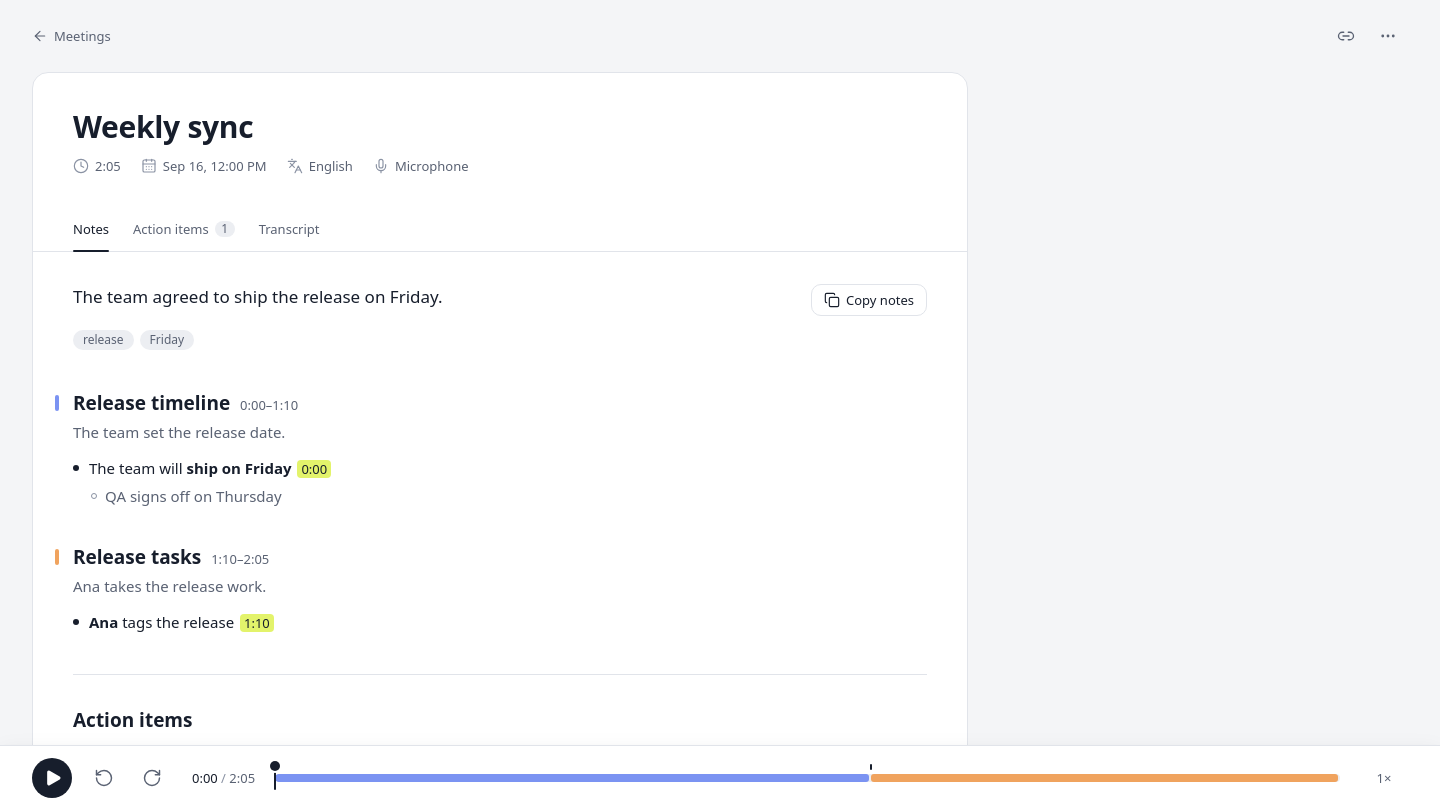
MeetingPage › actions › opens the recording in a new tab, or closes it on failure
The image size is (1440, 810).
Click the button named "More actions".
click(1388, 36)  # box [1368, 16, 1408, 56]
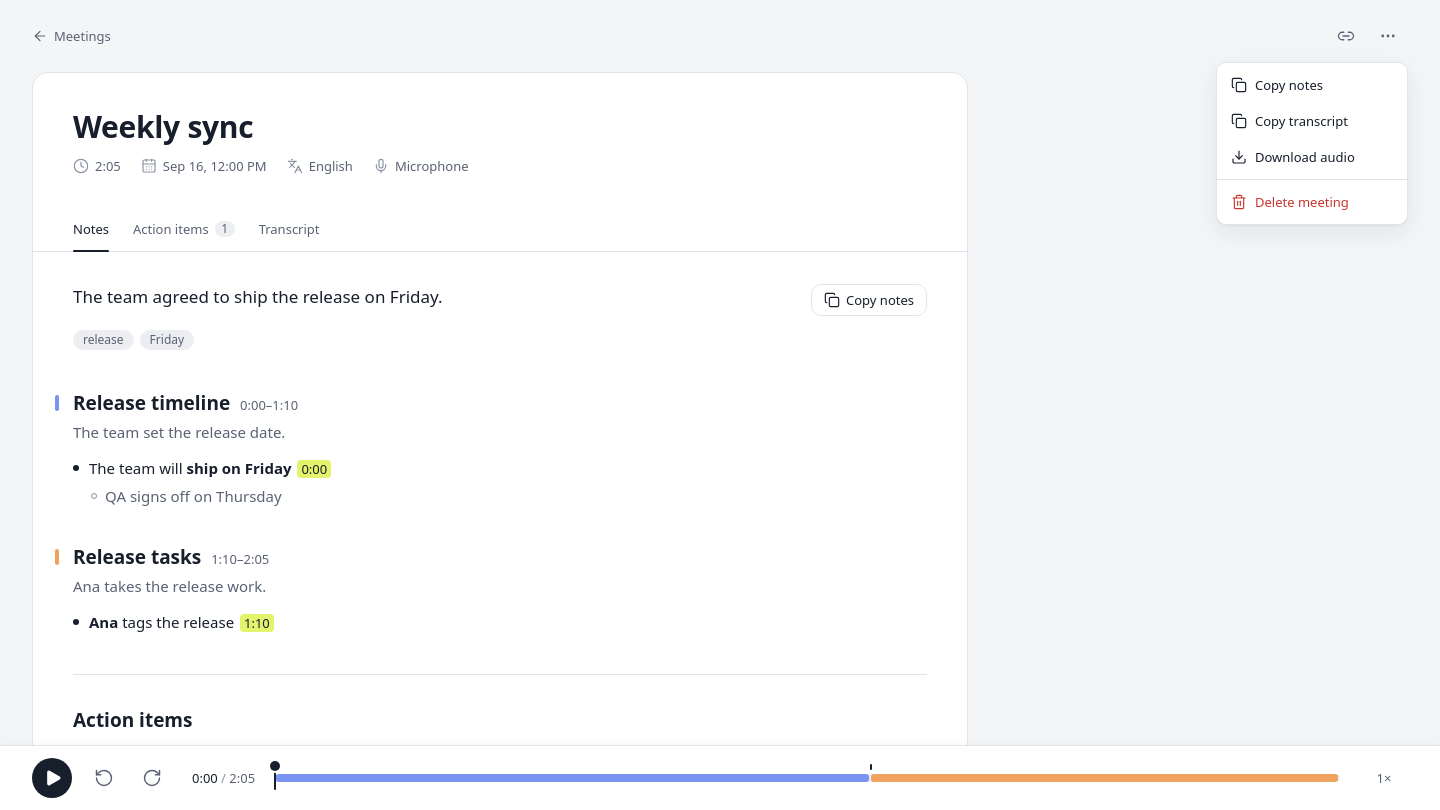
Click the menu item "Download audio".
click(1293, 157)  # box [1231, 148, 1355, 166]
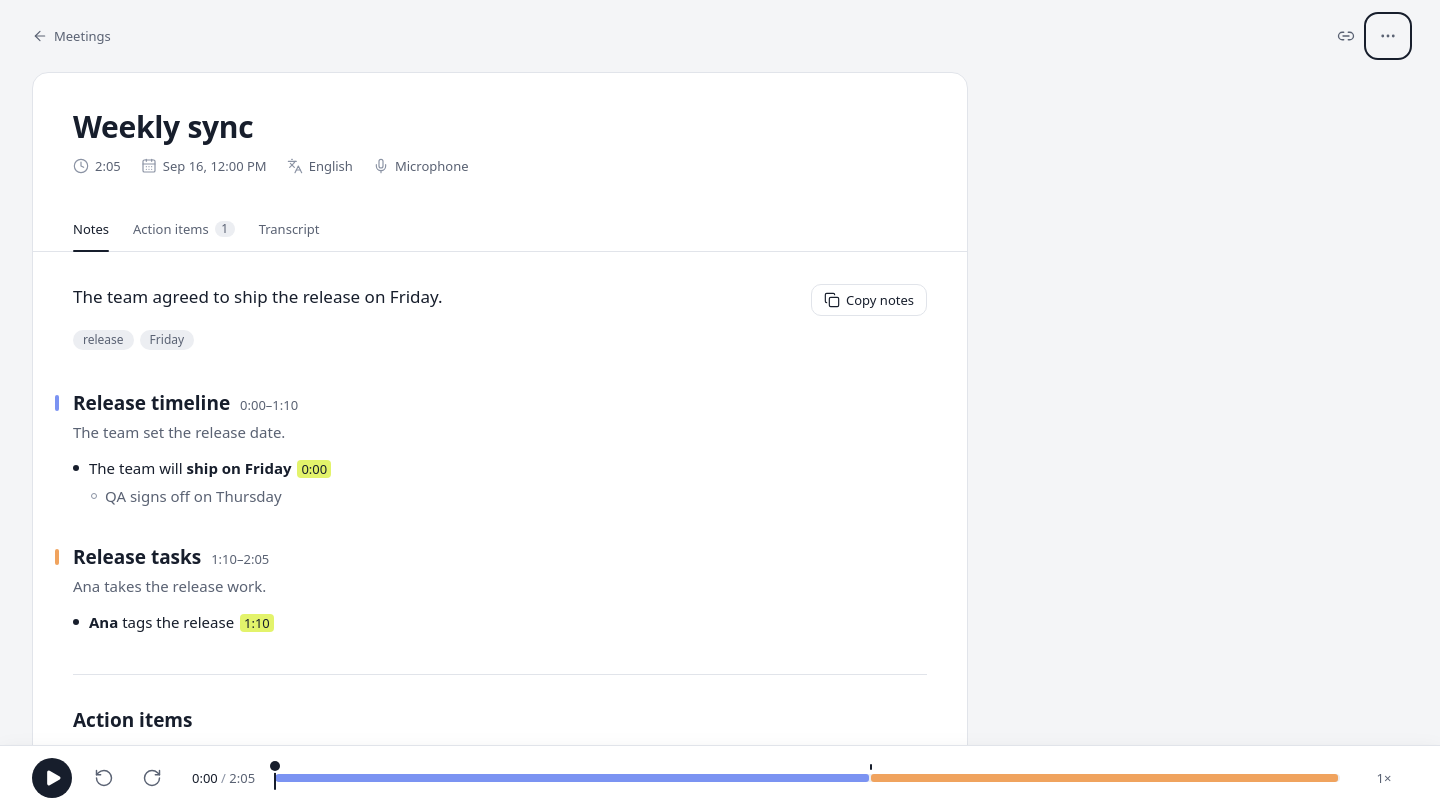
Click the button named "More actions".
click(1388, 36)  # box [1368, 16, 1408, 56]
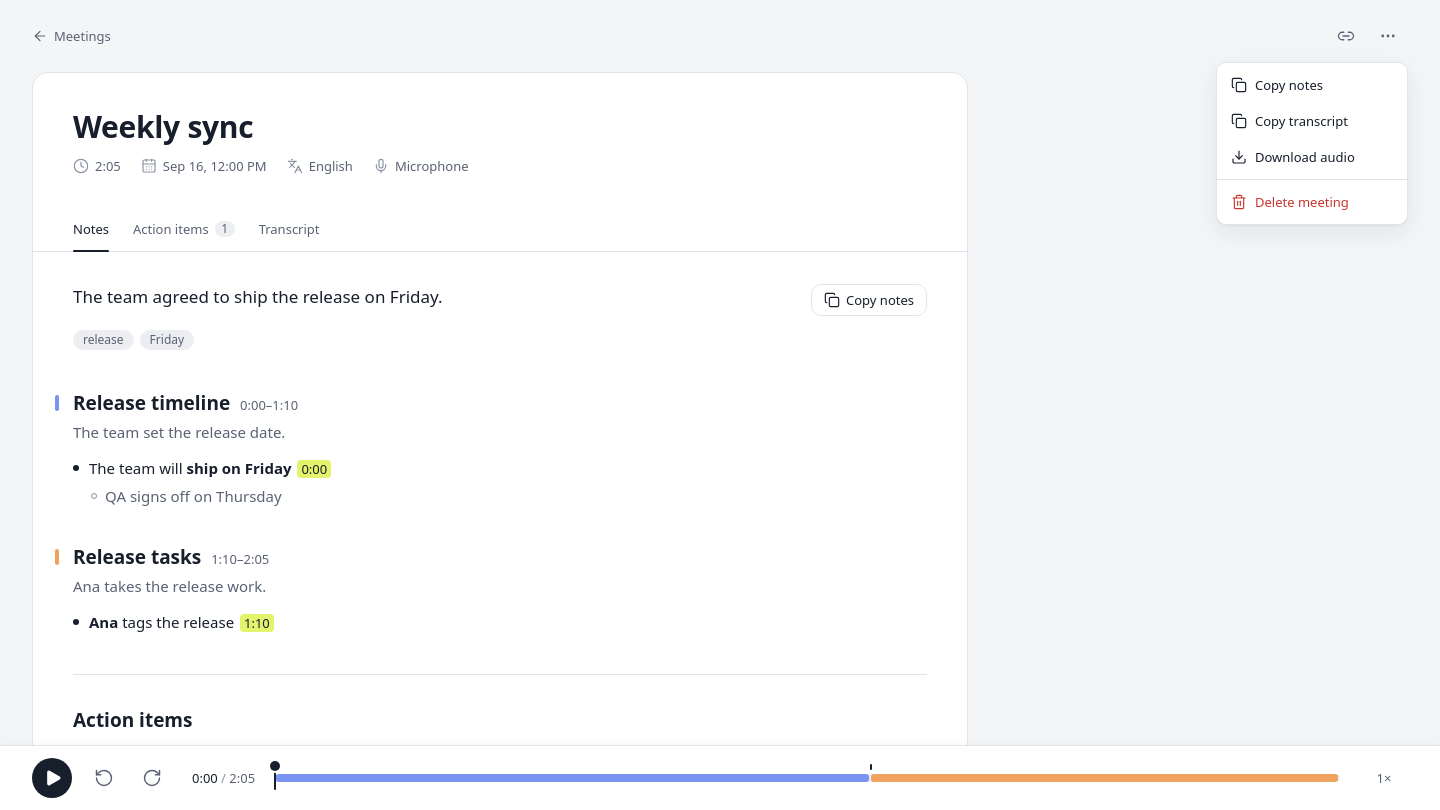
Click the menu item "Download audio".
click(1293, 157)  # box [1231, 148, 1355, 166]
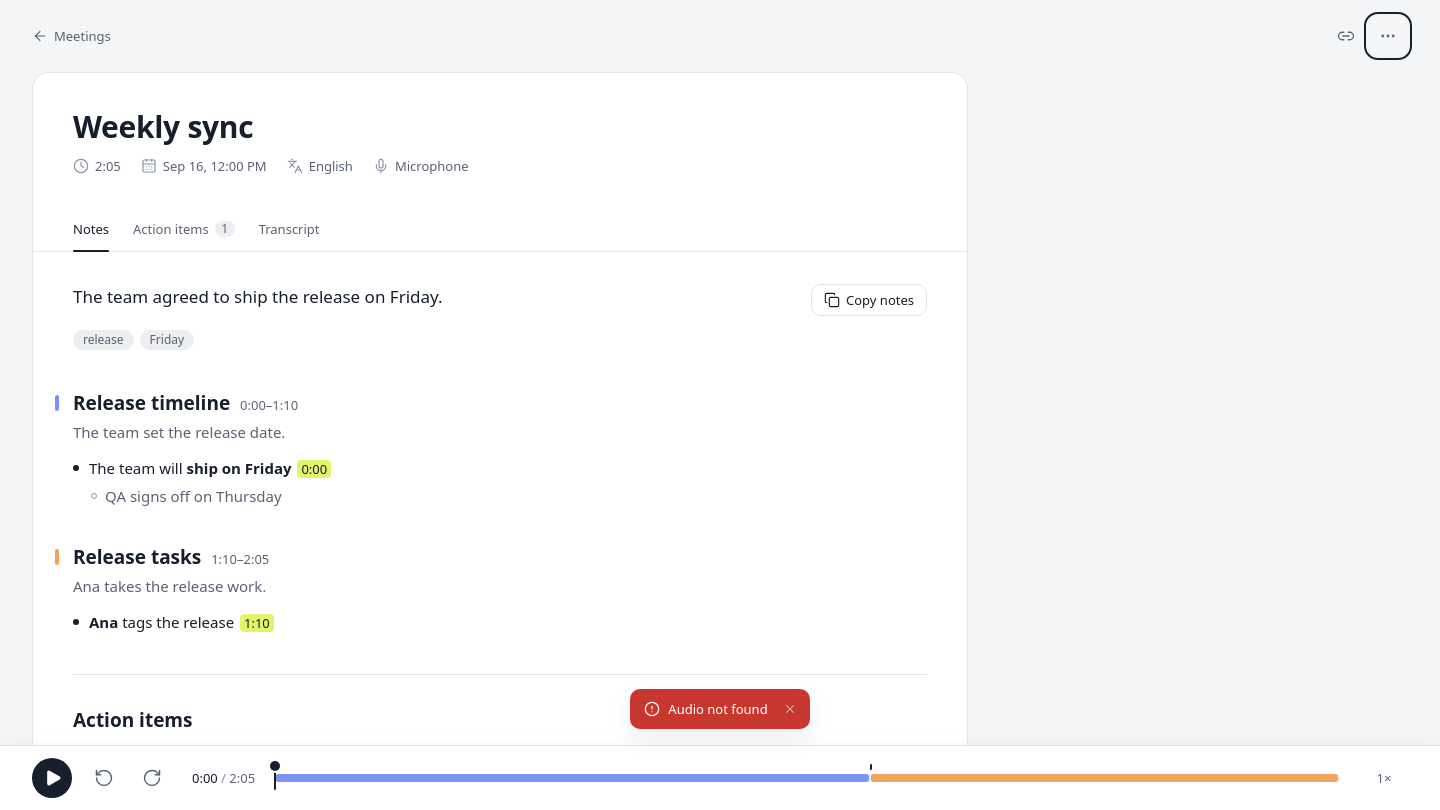
Now the text "Audio not found" is shown, box [668, 696, 768, 722]
